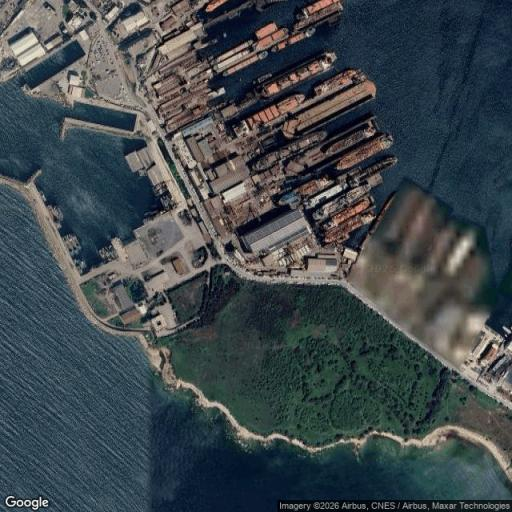ship: (283, 80, 375, 138), (261, 52, 335, 97), (252, 131, 326, 171), (243, 95, 304, 130), (336, 134, 392, 170), (277, 174, 335, 205), (345, 157, 398, 189), (324, 196, 371, 230), (324, 212, 374, 243), (325, 125, 376, 155), (294, 2, 344, 32), (314, 70, 366, 96), (304, 184, 345, 209), (272, 28, 315, 51), (312, 196, 347, 222), (213, 48, 251, 71), (215, 40, 253, 63), (255, 28, 287, 51), (299, 0, 339, 18), (223, 56, 258, 75), (345, 185, 371, 204), (63, 234, 81, 255), (47, 205, 63, 228), (255, 23, 277, 39), (256, 0, 285, 11), (100, 244, 117, 261), (205, 0, 228, 12), (253, 73, 272, 84), (73, 258, 86, 274), (258, 51, 268, 59)
